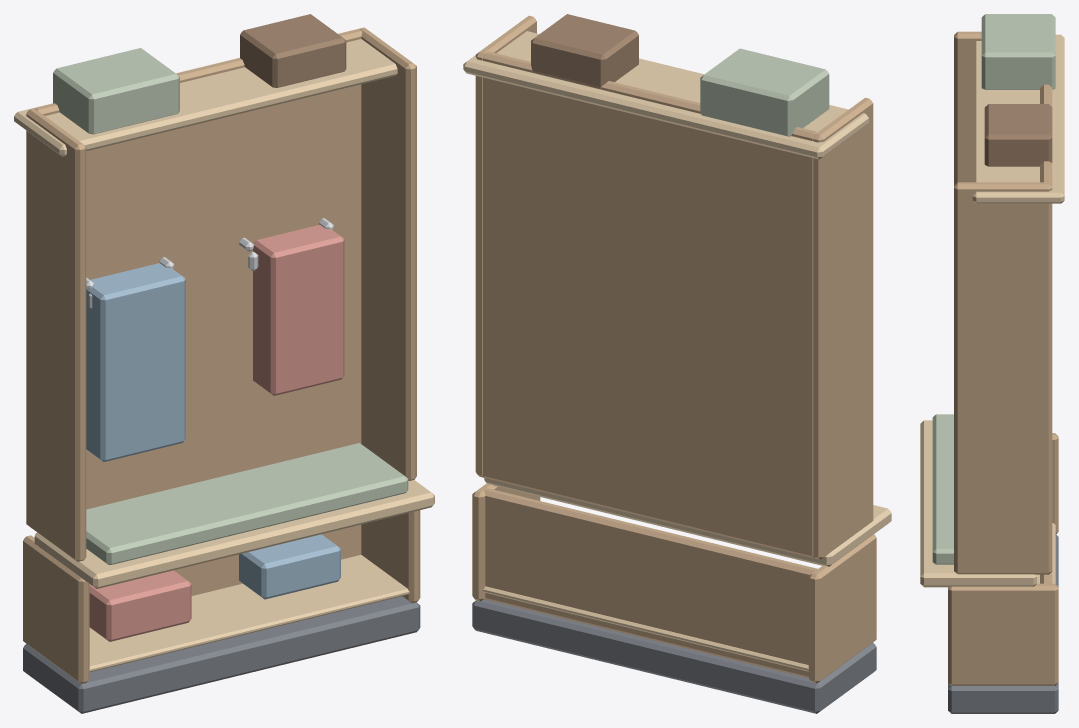
File: HallTreeBench.glb
3 views of the same model, side by side, from view 1: azimuth 30°, elevation 25°; view 2: azimuth 150°, elevation 25°; view 3: azimuth 270°, elevation 25° (orthographic). The views are drawn at different scales.
Visible parts, largest first — view 1: HallTreeBench_Body, HallTreeBench_Lid; view 2: HallTreeBench_Body, HallTreeBench_Lid; view 3: HallTreeBench_Body, HallTreeBench_Lid.
Part boxes in pixels (x1,y1,x2,y2): HallTreeBench_Body: [14, 14, 420, 713]; HallTreeBench_Lid: [34, 443, 434, 588]; HallTreeBench_Body: [463, 14, 876, 713]; HallTreeBench_Lid: [484, 477, 891, 566]; HallTreeBench_Body: [948, 14, 1064, 713]; HallTreeBench_Lid: [920, 414, 1036, 587].
Size of the model in its own units: 1.24 by 2.01 by 0.47.
